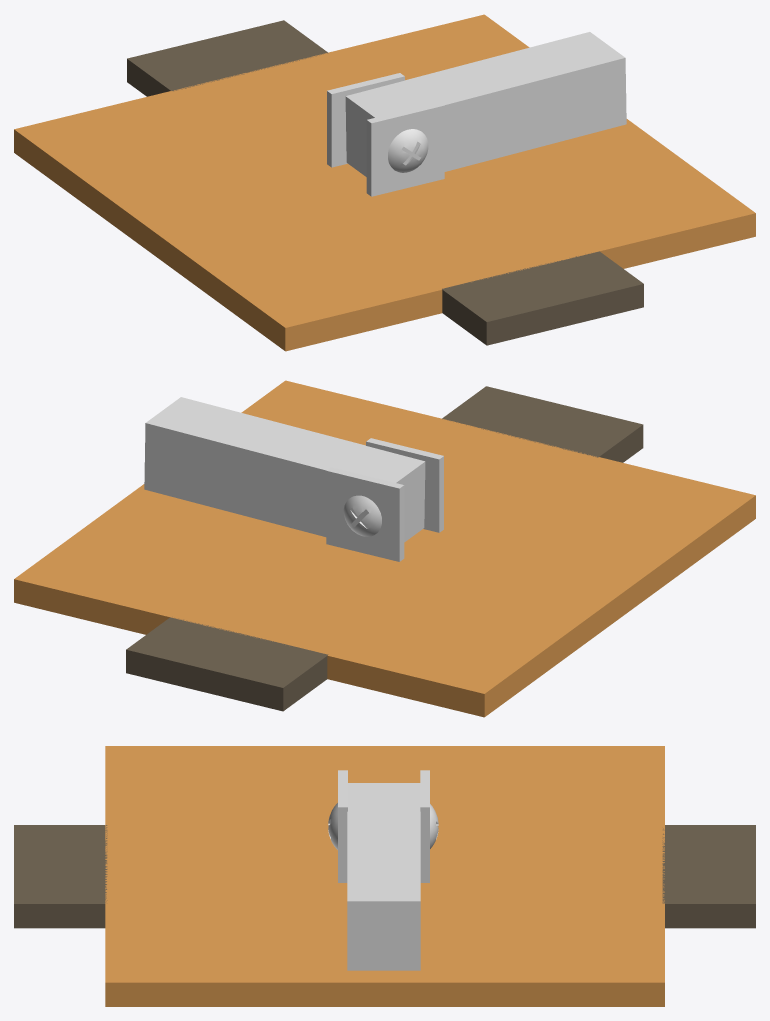
File: woodShake.fbx
3 renders of one model, top to bottom at view 1: azimuth 30°, elevation 25°; view 2: azimuth 150°, elevation 25°; view 3: azimuth 270°, elevation 25°, orthographic. The views are drawn at different scales.
Visible parts, largest first — view 1: trap41, trap43, trap42; view 2: trap41, trap43, trap42; view 3: trap41, trap43, trap42.
Part boxes in pixels (x1,y1,x2,y2): trap41: (14, 14, 755, 351); trap43: (345, 32, 626, 176); trap42: (327, 73, 444, 196); trap41: (14, 380, 755, 717); trap43: (144, 397, 425, 542); trap42: (326, 438, 443, 561); trap41: (14, 746, 755, 1006); trap43: (347, 783, 420, 970); trap42: (328, 770, 438, 882).
Bounding box in the file's own units: 1048 × 206 × 1389.
